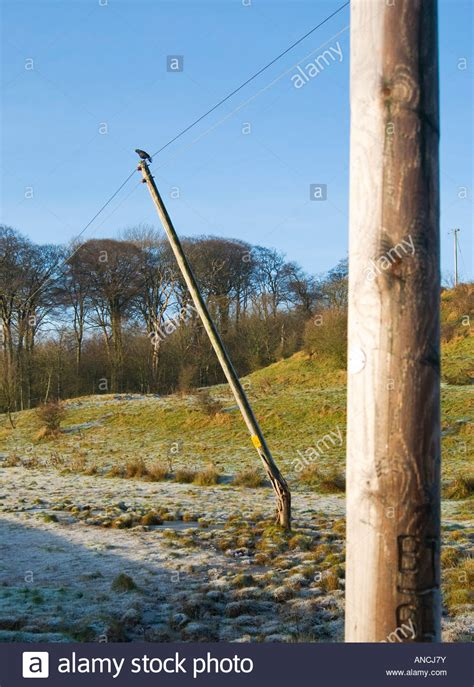pole: (126, 137, 320, 553), (338, 1, 458, 649)
